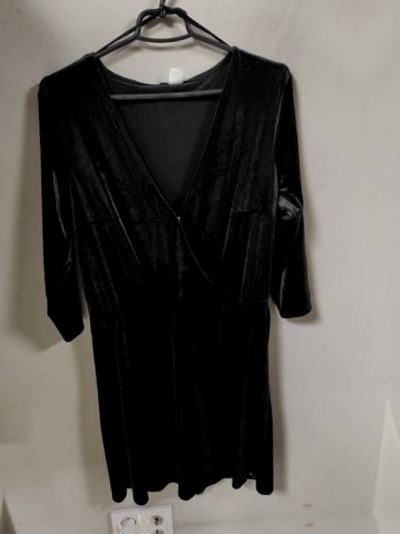Dress: (3, 22, 374, 496), (376, 0, 400, 466)
